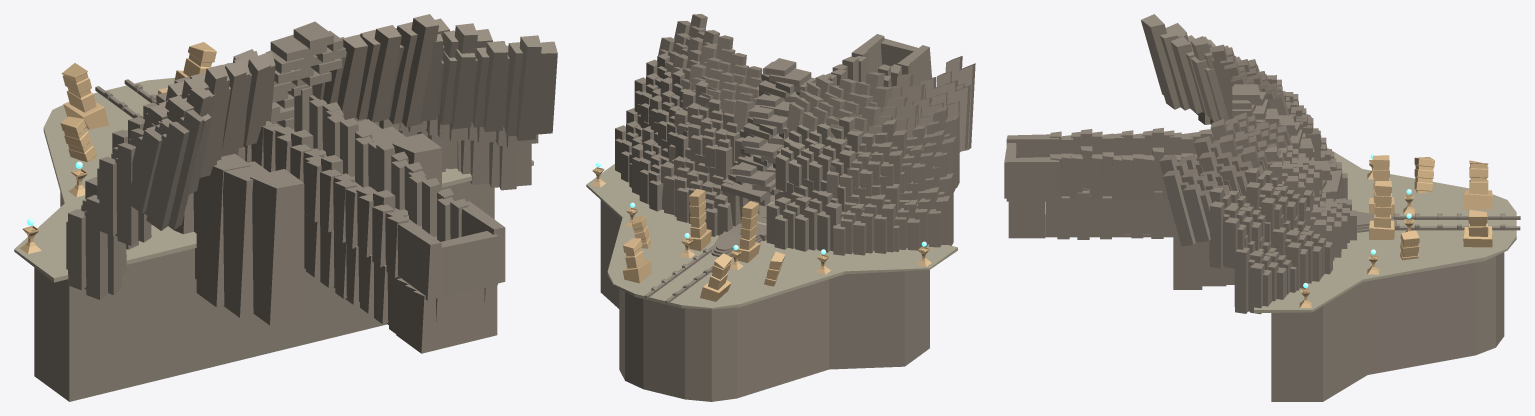
The model's file is house7.fbx.
3 views of the same model, side by side, from view 1: azimuth 30°, elevation 25°; view 2: azimuth 150°, elevation 25°; view 3: azimuth 270°, elevation 25° (orthographic). The views are drawn at different scales.
Parts seen in each view (by area): view 1: Cube.474, Cube.132; view 2: Cube.474, Cube.132, Cube.538; view 3: Cube.474, Cube.132.
Boxes of the visible parts, x1,y1,x2,y2 form: Cube.474: (14,14,557,401); Cube.132: (95,79,156,118); Cube.474: (586,14,975,401); Cube.132: (644,243,732,303); Cube.538: (711,227,762,256); Cube.474: (1004,14,1516,401); Cube.132: (1391,213,1520,230).
Size of the model in its own units: 253 by 171 by 322.
